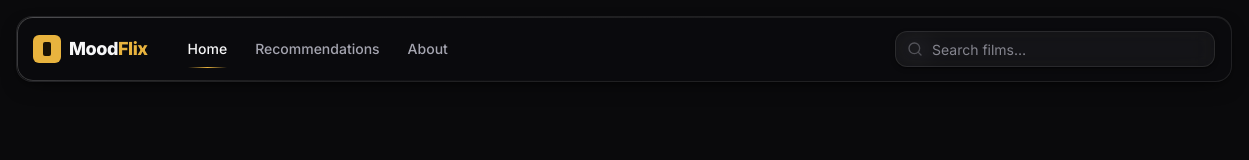
Test case: Header navigation › clears the query from the search field
Type "blade" into the search field named "Search movies by title" at (1055,49), box [895, 31, 1215, 67]
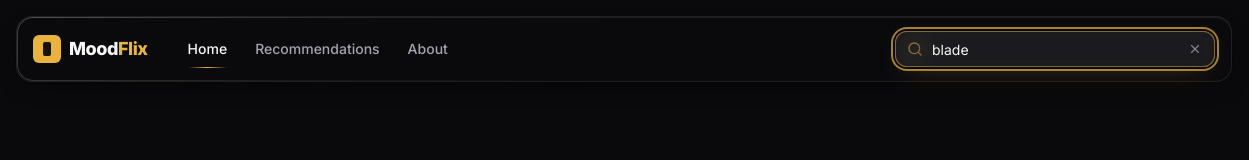
Click the button named "Clear search" at (1195,49), box [1181, 35, 1209, 63]
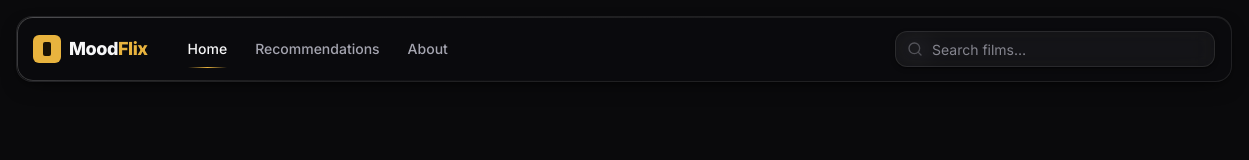
Expected: the search field named "Search movies by title" is empty, [895, 31, 1215, 67]
